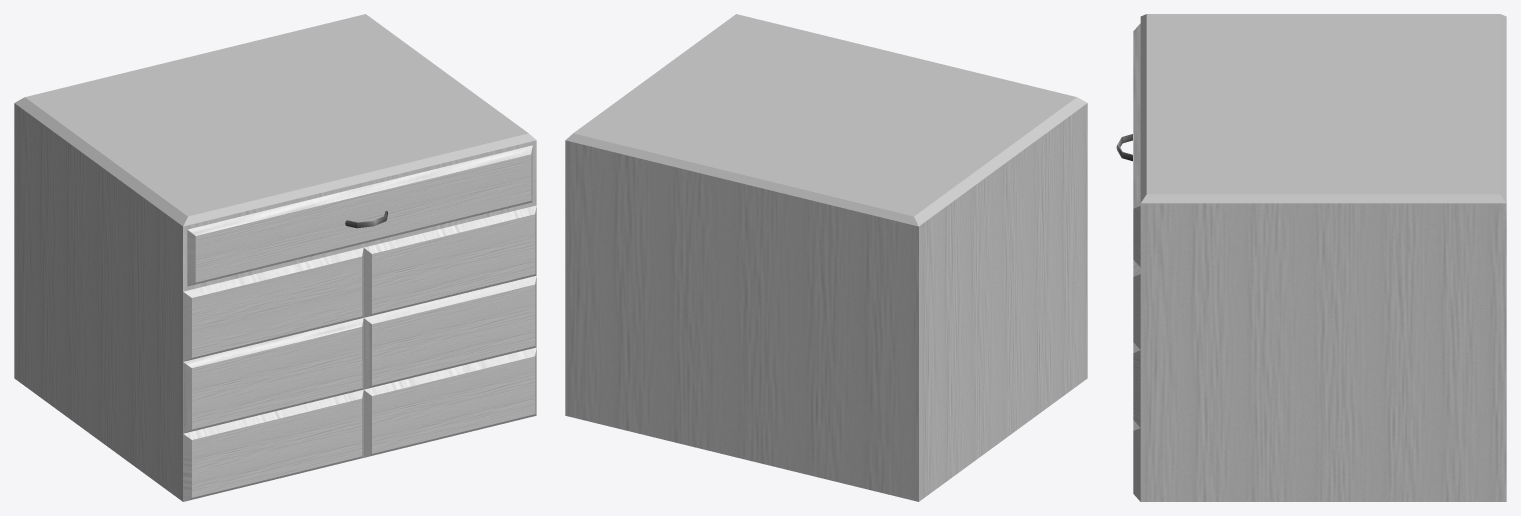
Rendered from Kitchen_Counter_B_2.FBX.
3 views of the same model, side by side, from view 1: azimuth 30°, elevation 25°; view 2: azimuth 150°, elevation 25°; view 3: azimuth 270°, elevation 25° (orthographic). The views are drawn at different scales.
Visible parts, largest first — view 1: Counter_A_2; view 2: Counter_A_2; view 3: Counter_A_2.
Boxes of the visible parts, left/top/right/bottom form: Counter_A_2: left=14, top=14, right=536, bottom=501; Counter_A_2: left=565, top=14, right=1087, bottom=501; Counter_A_2: left=1116, top=14, right=1506, bottom=501.
Size of the model in its own units: 181 by 138 by 160.
